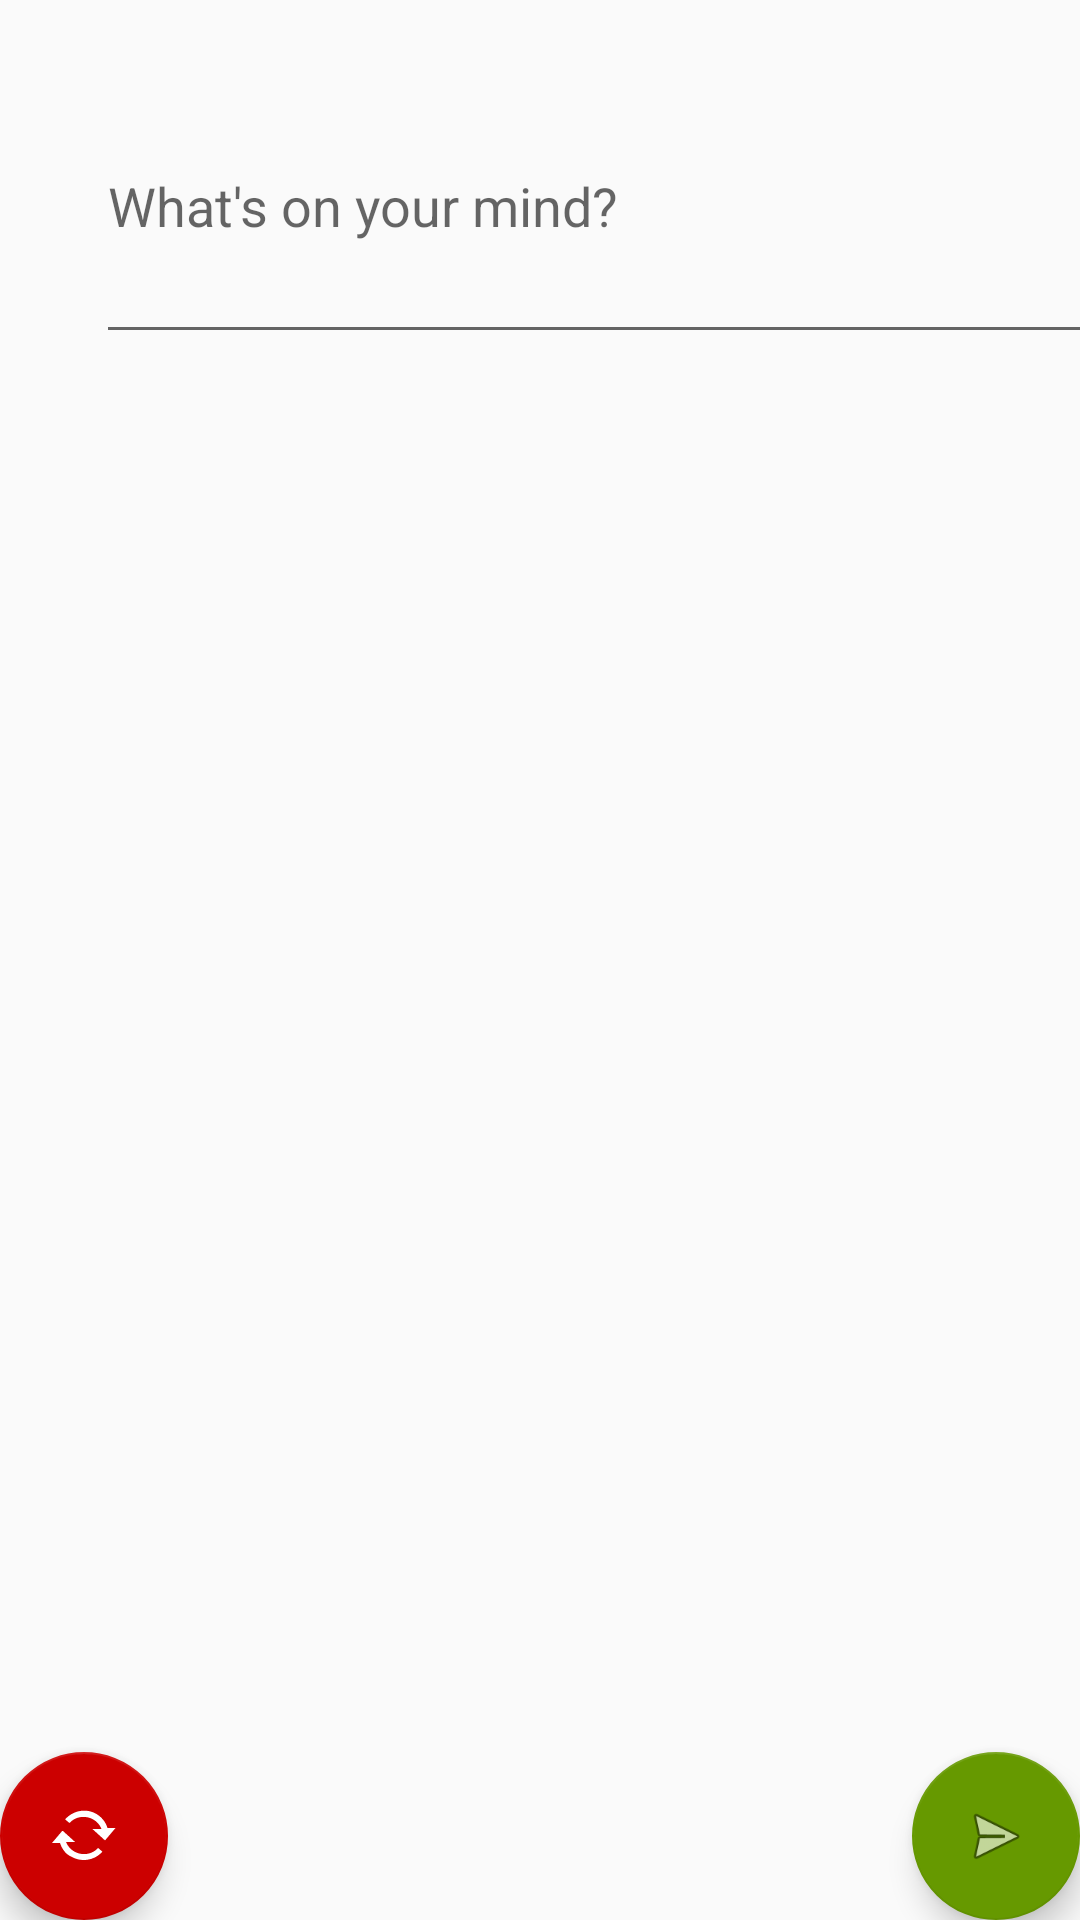

Icon click points for this 1080px x 1920px phone screenshot, format (x,y):
send: (996,1836)
sync: (84,1836)
